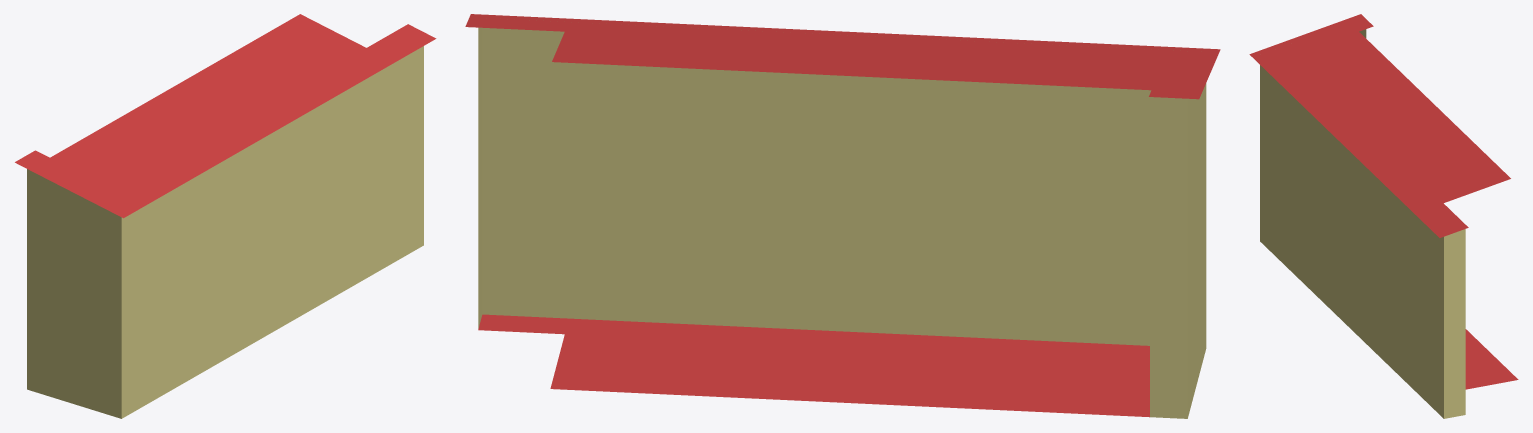
The picture shows the model from 3 angles, left to right: view 1: azimuth 30°, elevation 25°; view 2: azimuth 150°, elevation 25°; view 3: azimuth 270°, elevation 25°; orthographic projection. The views are drawn at different scales.
Bounding box in the file's own units: 14.75 × 8.21 × 6.9.
